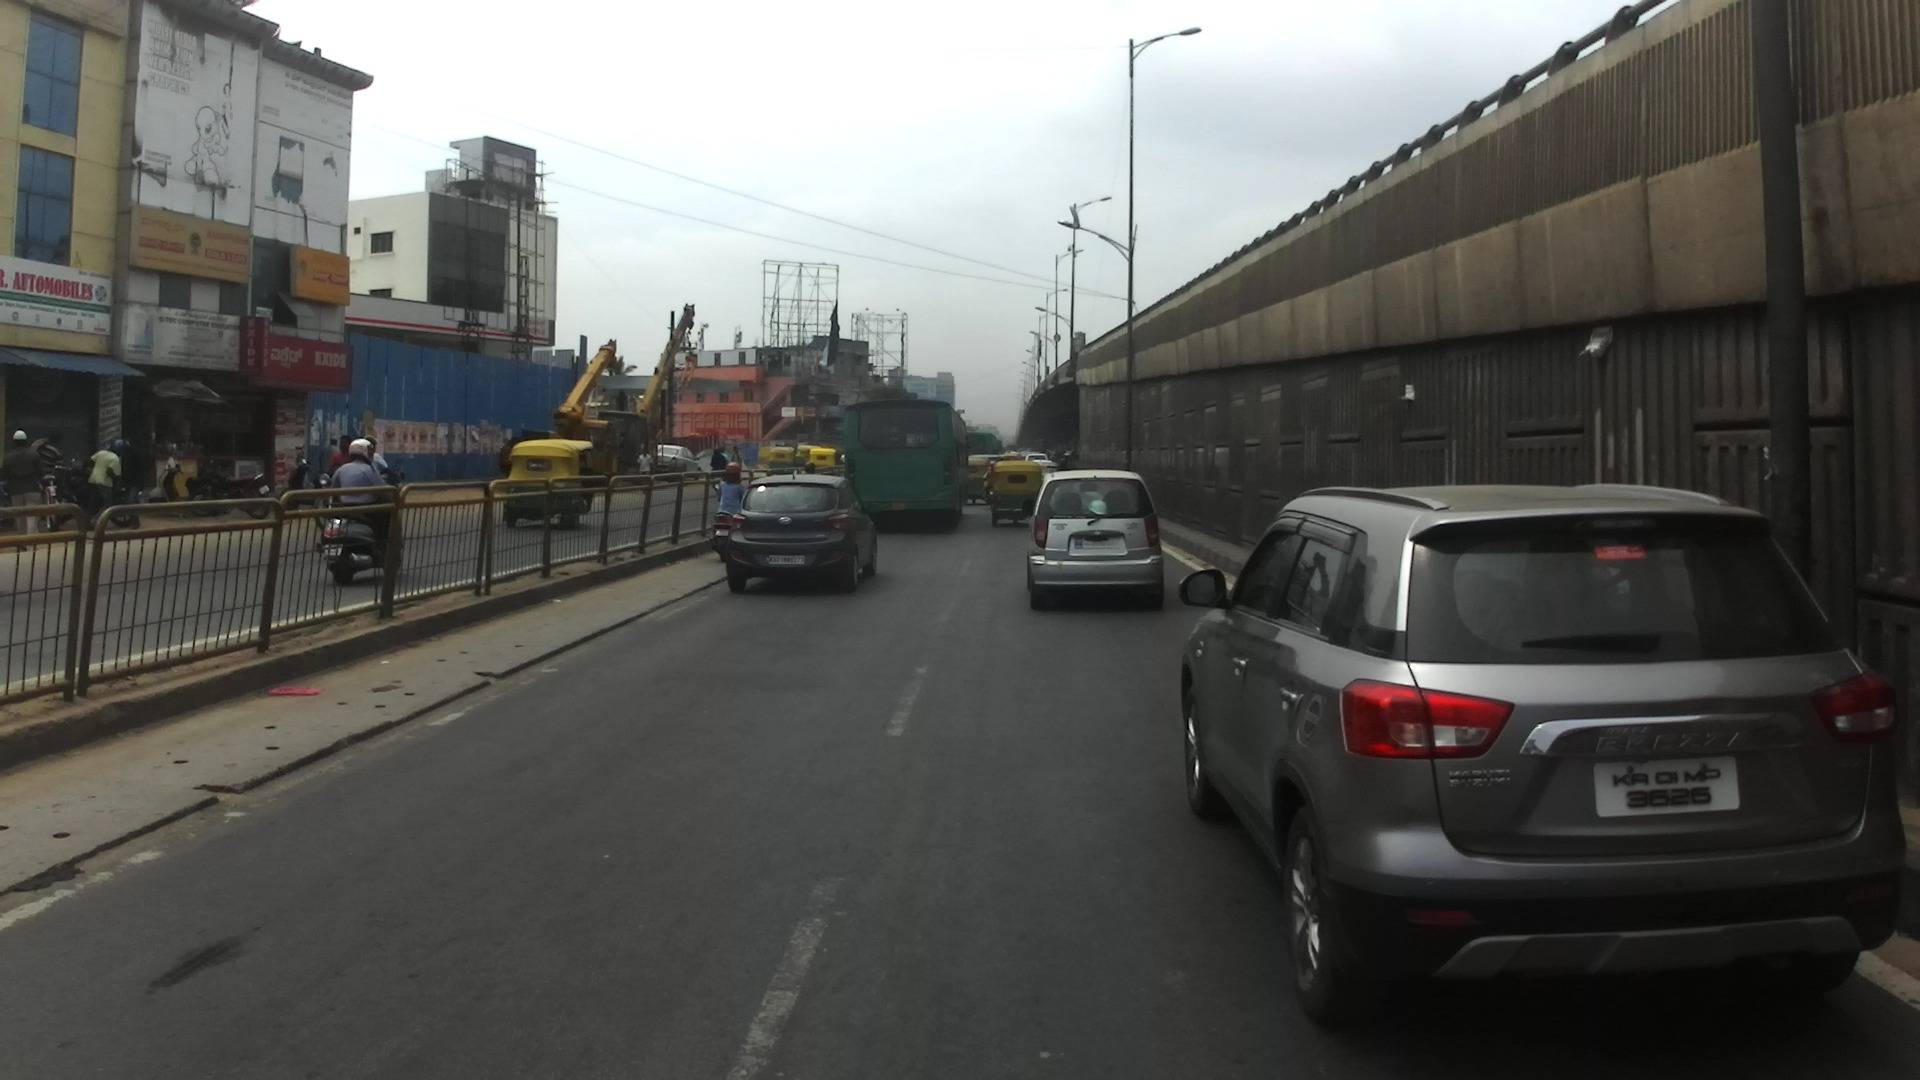autorickshaw: (502, 439, 600, 529), (991, 461, 1043, 527), (967, 457, 991, 504), (809, 446, 840, 476), (766, 446, 796, 476), (795, 444, 819, 468)
bus: (843, 399, 967, 528), (965, 430, 1004, 454)
car: (1178, 483, 1904, 1027), (1022, 469, 1165, 609), (725, 475, 878, 594), (655, 443, 703, 482), (1033, 458, 1059, 482), (1023, 453, 1050, 464)
motorcycle: (315, 491, 401, 584), (53, 453, 144, 526), (148, 449, 222, 516), (190, 460, 272, 521), (280, 446, 335, 513), (313, 472, 348, 534), (712, 483, 737, 563), (377, 468, 404, 488), (1, 476, 11, 532), (985, 478, 994, 509), (712, 474, 725, 491)
person: (3, 429, 47, 552), (83, 439, 126, 529), (29, 430, 65, 532), (119, 432, 146, 530), (636, 448, 654, 493), (730, 445, 741, 462)
rider: (331, 438, 395, 565), (364, 434, 401, 487), (718, 463, 746, 513), (325, 435, 353, 477), (982, 461, 997, 499), (710, 447, 727, 472), (718, 446, 730, 465), (804, 461, 816, 476)
vehicle fallback: (597, 301, 695, 478), (501, 339, 617, 481), (1019, 450, 1042, 460), (999, 453, 1024, 462), (1004, 449, 1020, 455)
